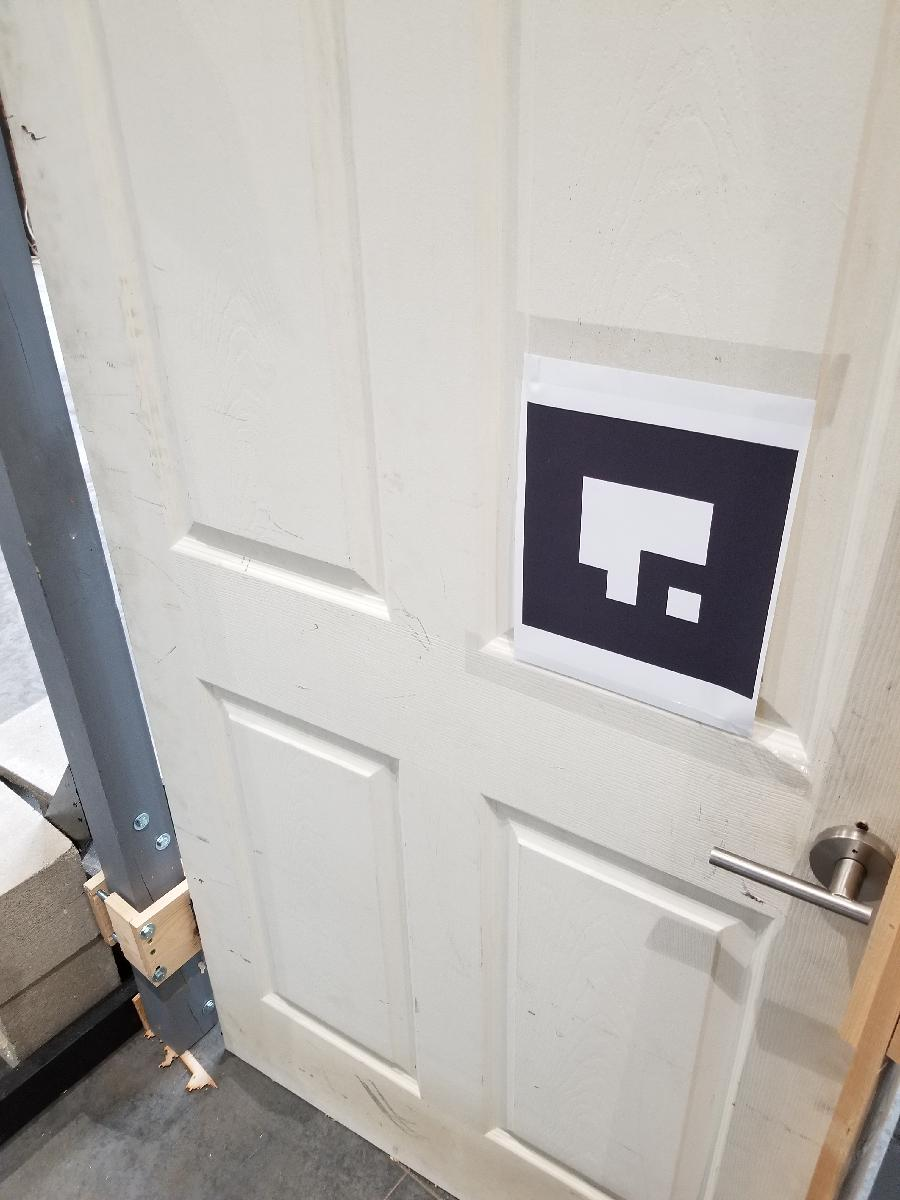doorHandle: (698, 809, 895, 937)
